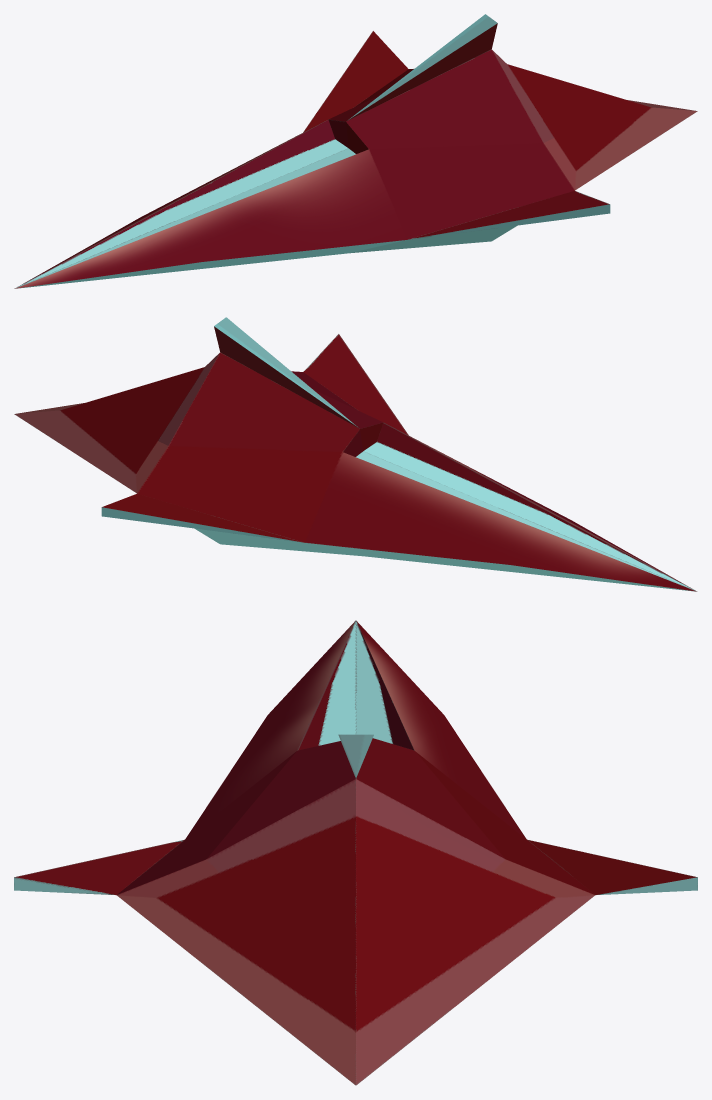
File: nave.fbx
The picture shows the model from 3 angles, top to bottom: view 1: azimuth 30°, elevation 25°; view 2: azimuth 150°, elevation 25°; view 3: azimuth 270°, elevation 25°; orthographic projection. The views are drawn at different scales.
Parts seen in each view (by area): view 1: Cone.000; view 2: Cone.000; view 3: Cone.000.
Boxes of the visible parts, bbox=[...] form: Cone.000: bbox=[14, 14, 697, 288]; Cone.000: bbox=[14, 317, 697, 591]; Cone.000: bbox=[14, 620, 697, 1085].
Size of the model in its own units: 422 by 131 by 254.
1 material, 1 textured.
